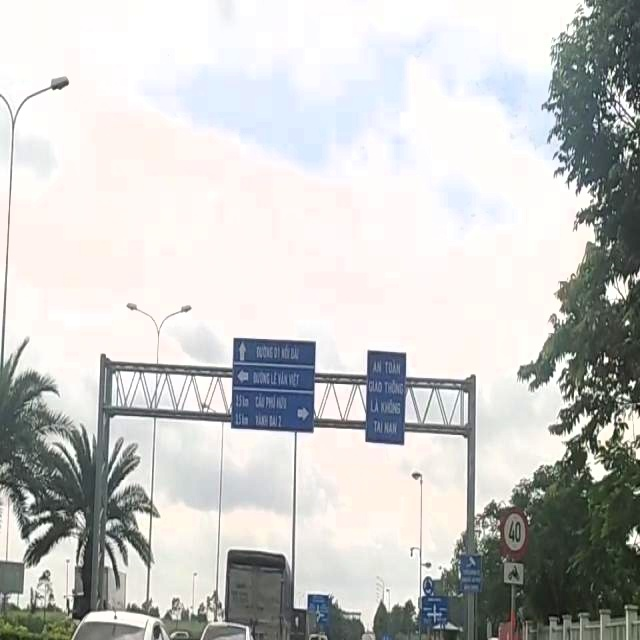P.127*40: (502, 506, 530, 557)
S.505a*Xe may: (503, 559, 527, 587)
